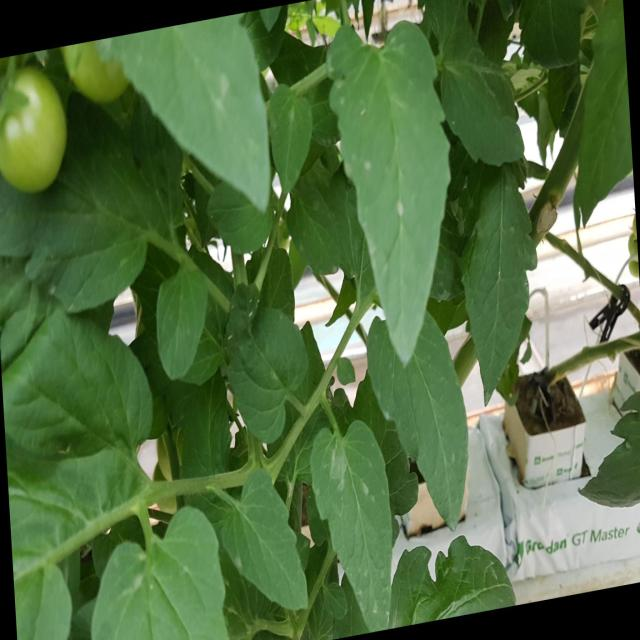Healthy Leaf: (324, 17, 454, 379), (459, 166, 539, 412), (309, 414, 393, 634), (217, 466, 310, 616), (223, 301, 311, 445), (156, 266, 210, 385)
